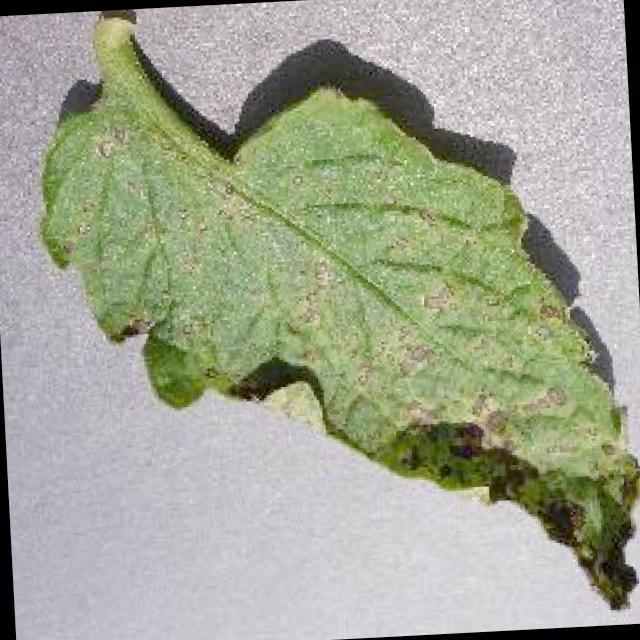Tomato Septoria spot leaf: (35, 67, 640, 640)
